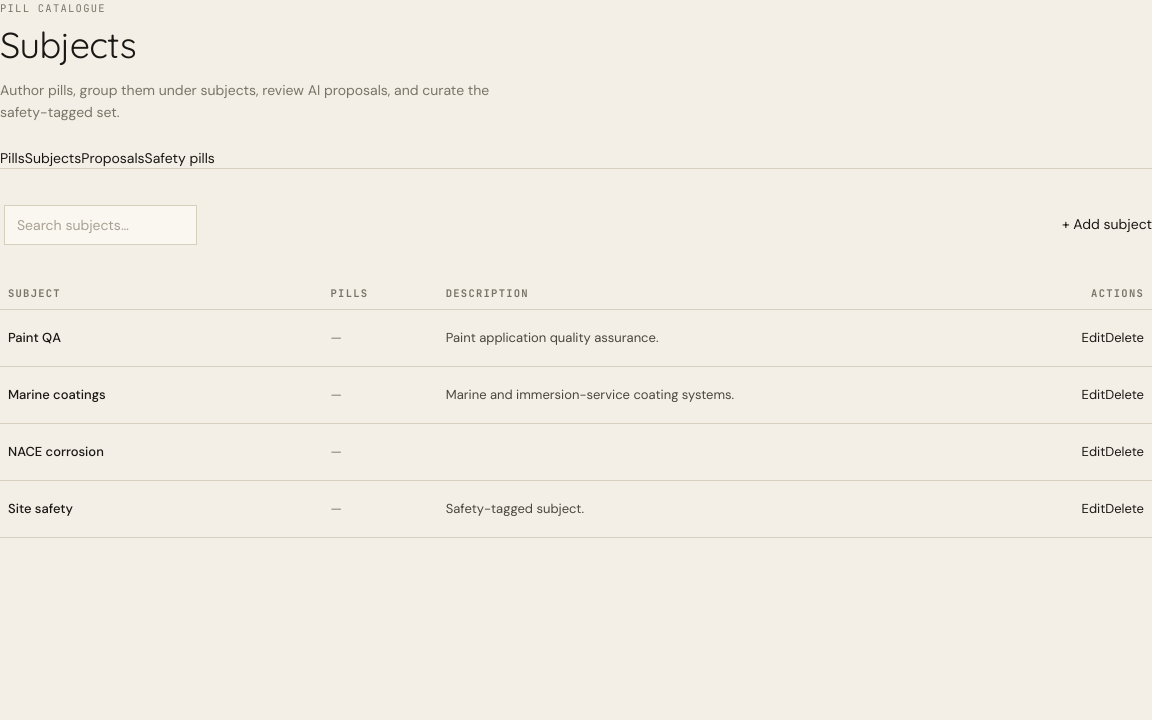
Test case: subjects tab — create modal › surfaces zod validation error when name is empty
The image size is (1152, 720).
Click the button with test id "subjects-add-button".
click(1107, 225)  # box [1062,205,1151,245]
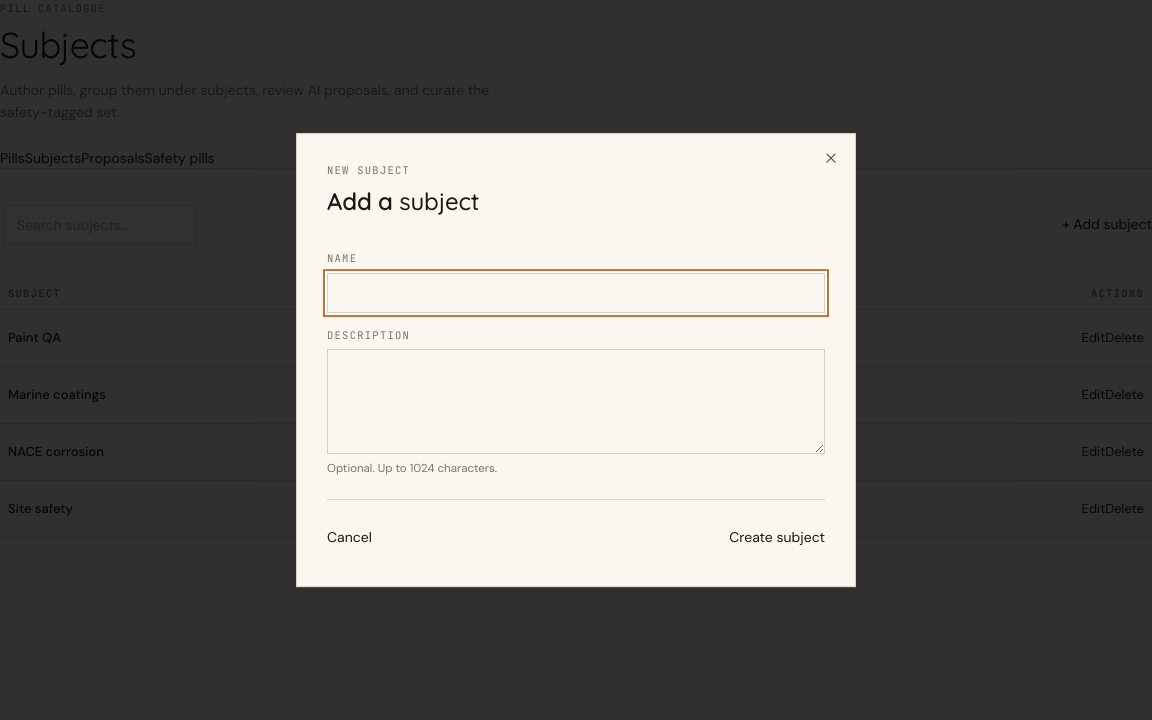
Click the button with test id "subject-modal-submit".
click(777, 538)  # box [729,518,825,558]
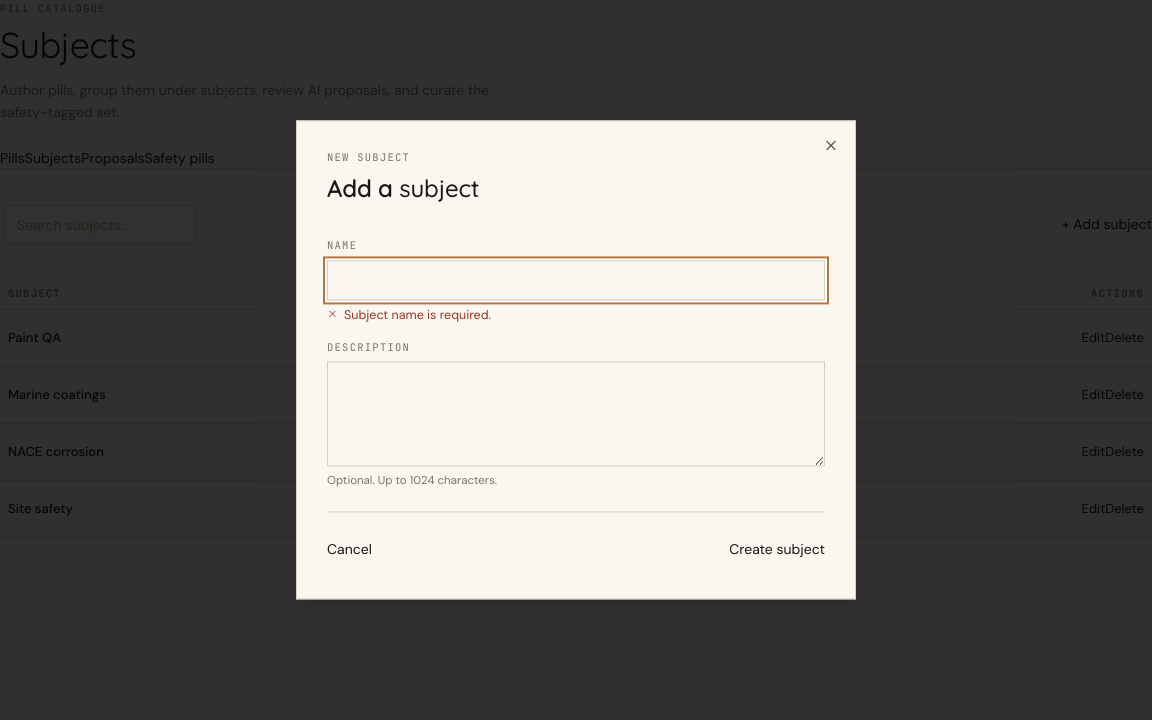
Expected: the form with test id "subject-modal-form" is shown, [327,238,825,571]
Expected: the text "Subject name is required." is shown, [344,306,491,325]
